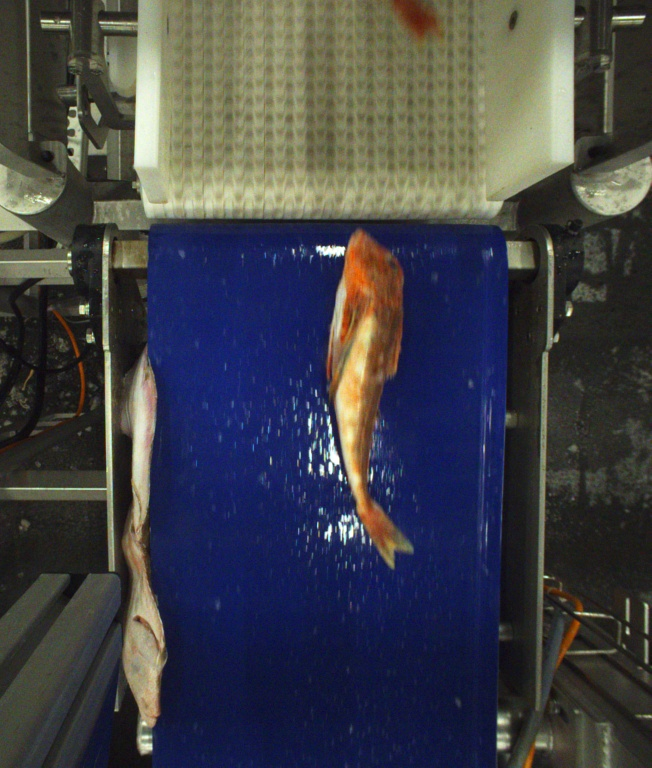GUU: (327, 230, 416, 568)
